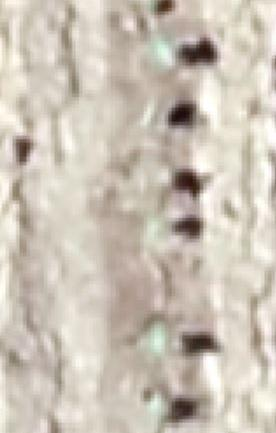cotton: (154, 40, 173, 62), (153, 326, 169, 351), (151, 398, 171, 418), (153, 220, 170, 238), (155, 170, 172, 187), (148, 108, 166, 122)
